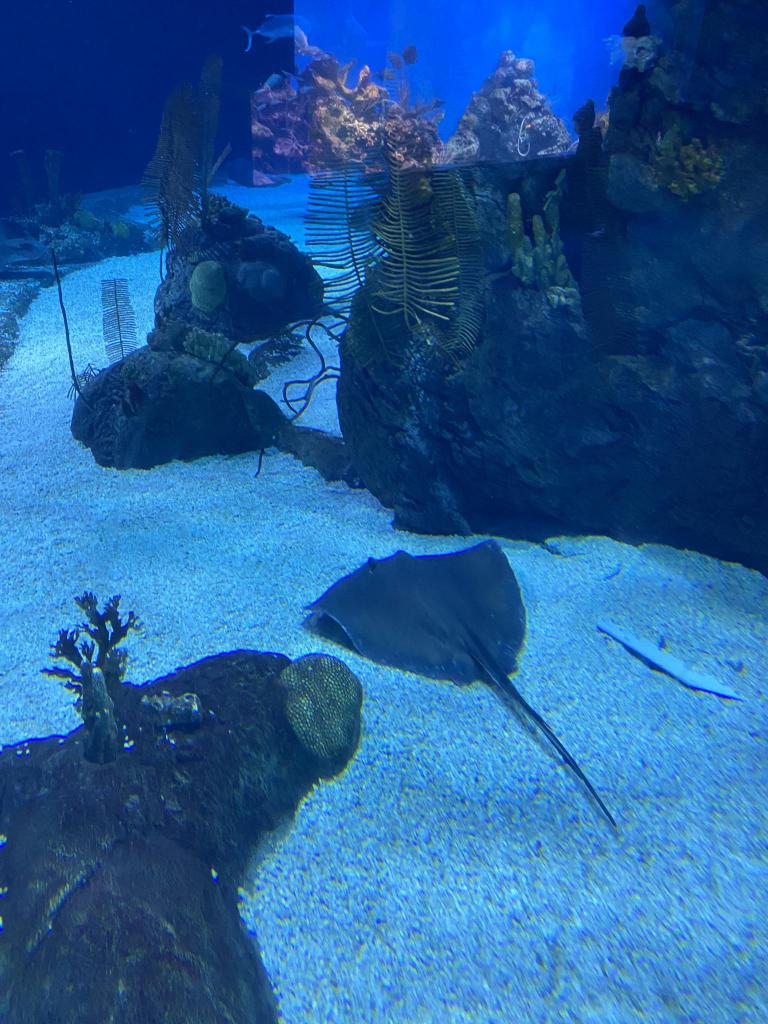fish: (241, 12, 311, 54)
stingray: (299, 537, 526, 685)
